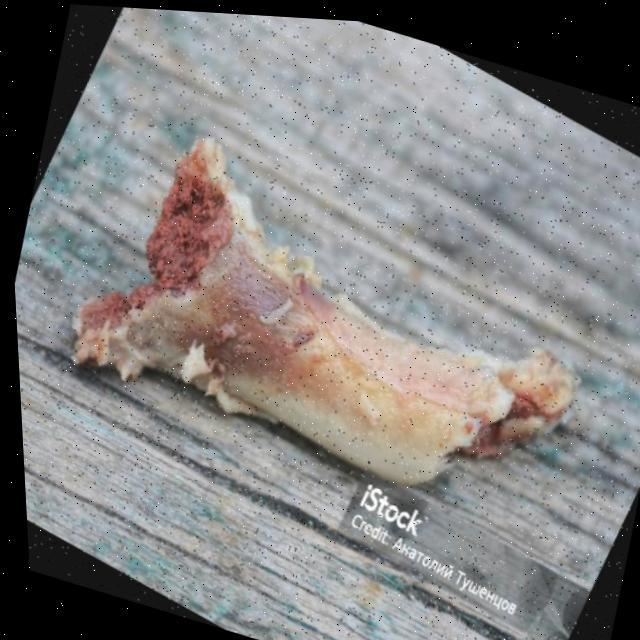Wet Waste: (47, 115, 629, 582)
